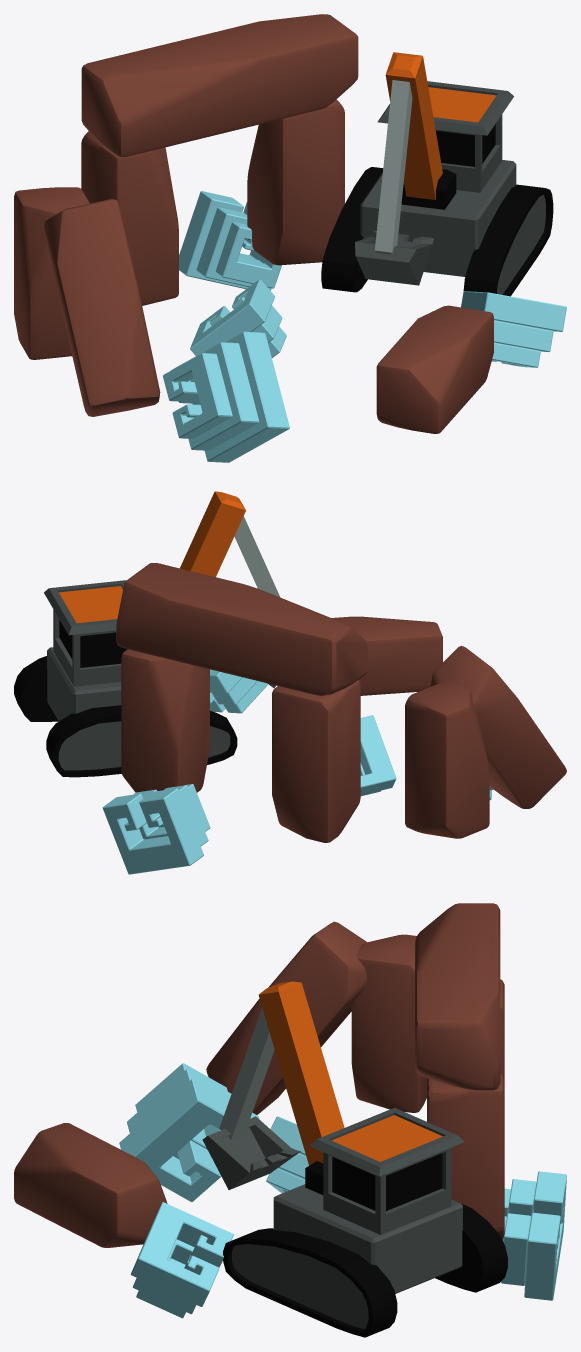
Rendered from Building_Synthia_Harvest.fbx.
3 renders of one model, top to bottom at view 1: azimuth 30°, elevation 25°; view 2: azimuth 150°, elevation 25°; view 3: azimuth 270°, elevation 25°, orthographic. The views are drawn at different scales.
Parts seen in each view (by area): view 1: Building_Synthia_Harvest; view 2: Building_Synthia_Harvest; view 3: Building_Synthia_Harvest.
Boxes of the visible parts, x1,y1,x2,y2 form: Building_Synthia_Harvest: (14,14,566,462); Building_Synthia_Harvest: (14,491,566,874); Building_Synthia_Harvest: (14,903,566,1337).
Size of the model in its own units: 1.75 by 0.9949 by 1.51.
